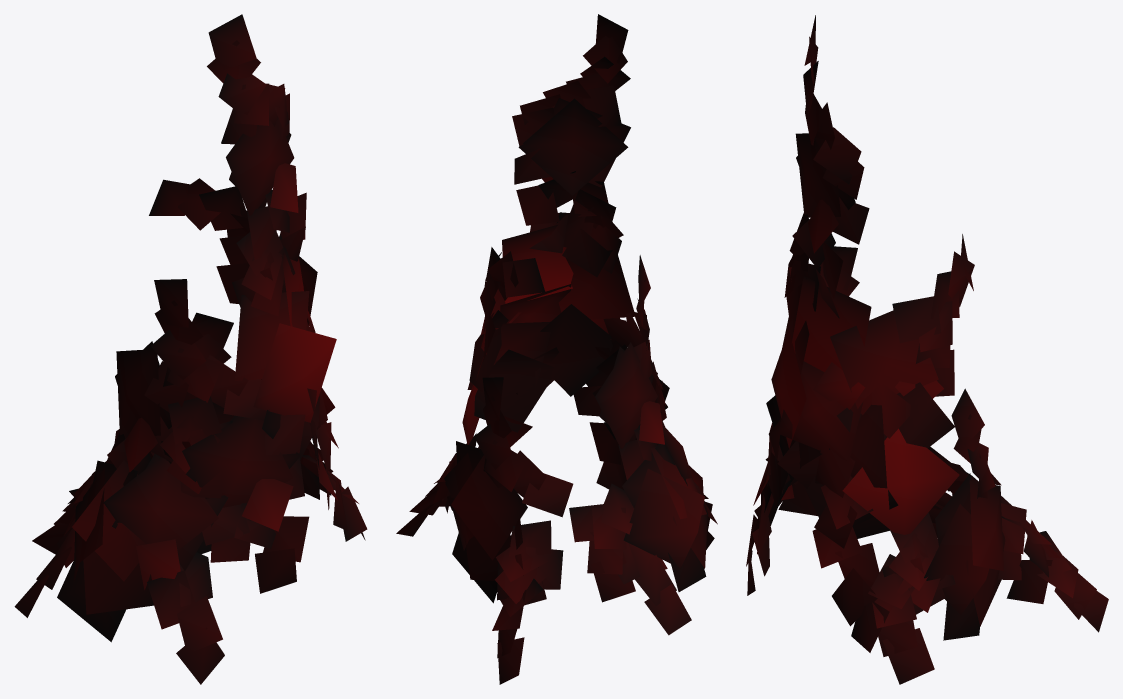
File: TGV_Beech_Tree_01A_Ivy.fbx
3 renders of one model, left to right at view 1: azimuth 30°, elevation 25°; view 2: azimuth 150°, elevation 25°; view 3: azimuth 270°, elevation 25°, orthographic. The views are drawn at different scales.
Parts seen in each view (by area): view 1: TGV_Beech_Tree_01A_Ivy_LOD0; view 2: TGV_Beech_Tree_01A_Ivy_LOD0; view 3: TGV_Beech_Tree_01A_Ivy_LOD0.
Part boxes in pixels (<box>): TGV_Beech_Tree_01A_Ivy_LOD0: <box>14,14,367,684</box>; TGV_Beech_Tree_01A_Ivy_LOD0: <box>396,14,717,684</box>; TGV_Beech_Tree_01A_Ivy_LOD0: <box>746,15,1108,684</box>.
Size of what is drawn, in the model's own units: 268 by 503 by 263.
